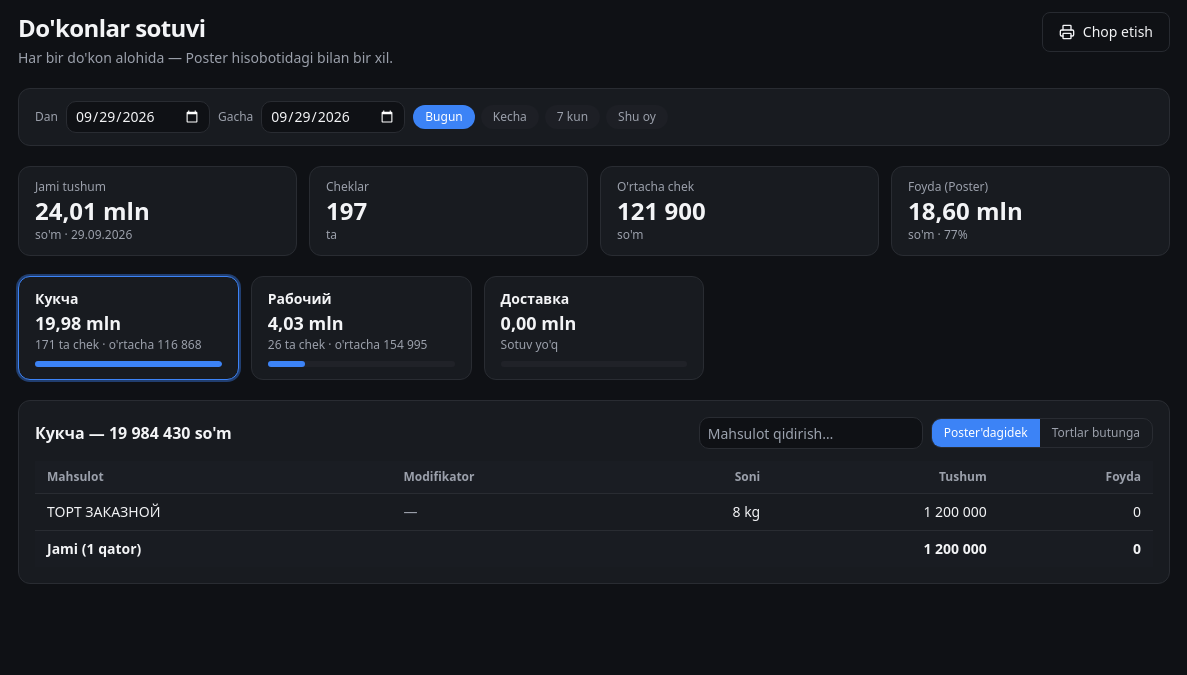
StoreSalesReportPage › says so when a store sold nothing
Check: the heading "Кукча — 19 984 430 so'm" is shown, box [35,421,232,445]
Click the button "Доставка 0,00 mln Sotuv yo'q" at [594, 328], box [484,276,704,380]
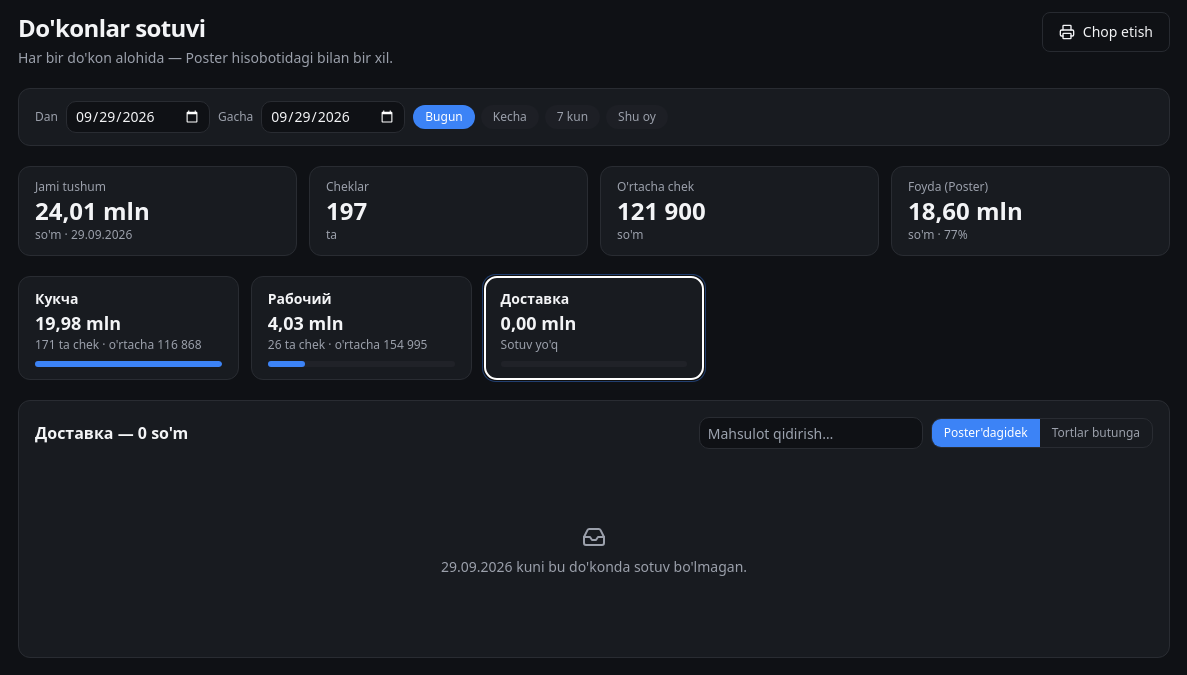
Check: the text "29.09.2026 kuni bu do'konda sotuv bo'lmagan." is shown, box [441,557,747,577]
